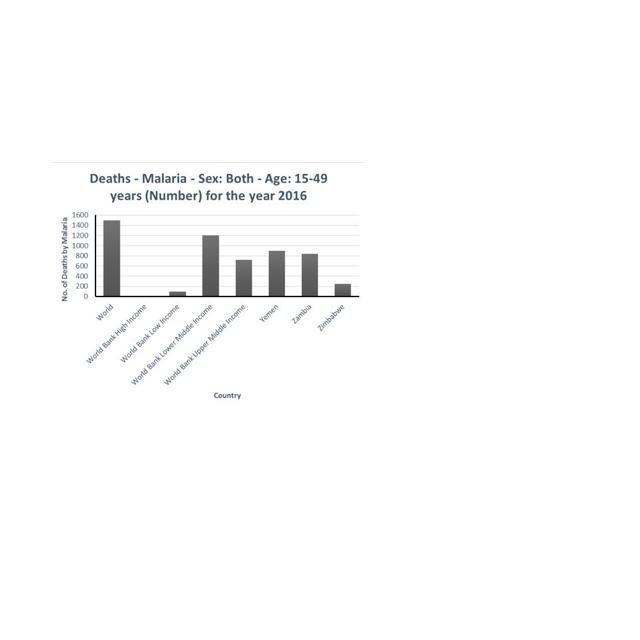Graph: (52, 162, 364, 405)
